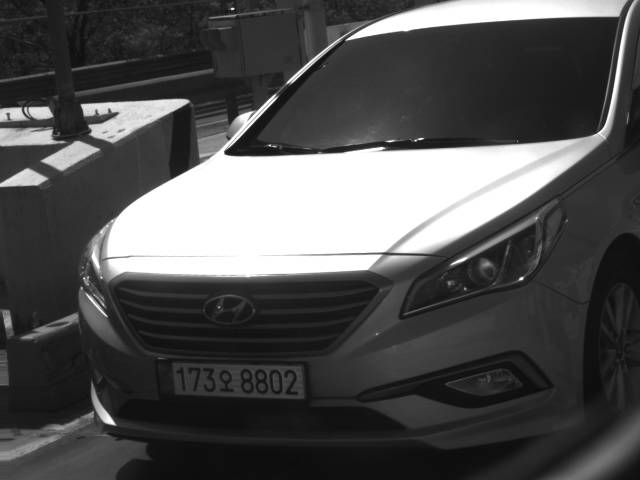car: (74, 1, 640, 451)
plate: (155, 358, 310, 402)
